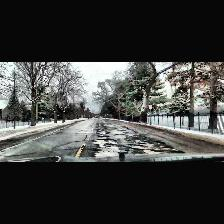pothole: (170, 150, 183, 156), (155, 140, 165, 146), (127, 144, 144, 146), (97, 136, 108, 139), (118, 153, 125, 157), (105, 144, 113, 146)
